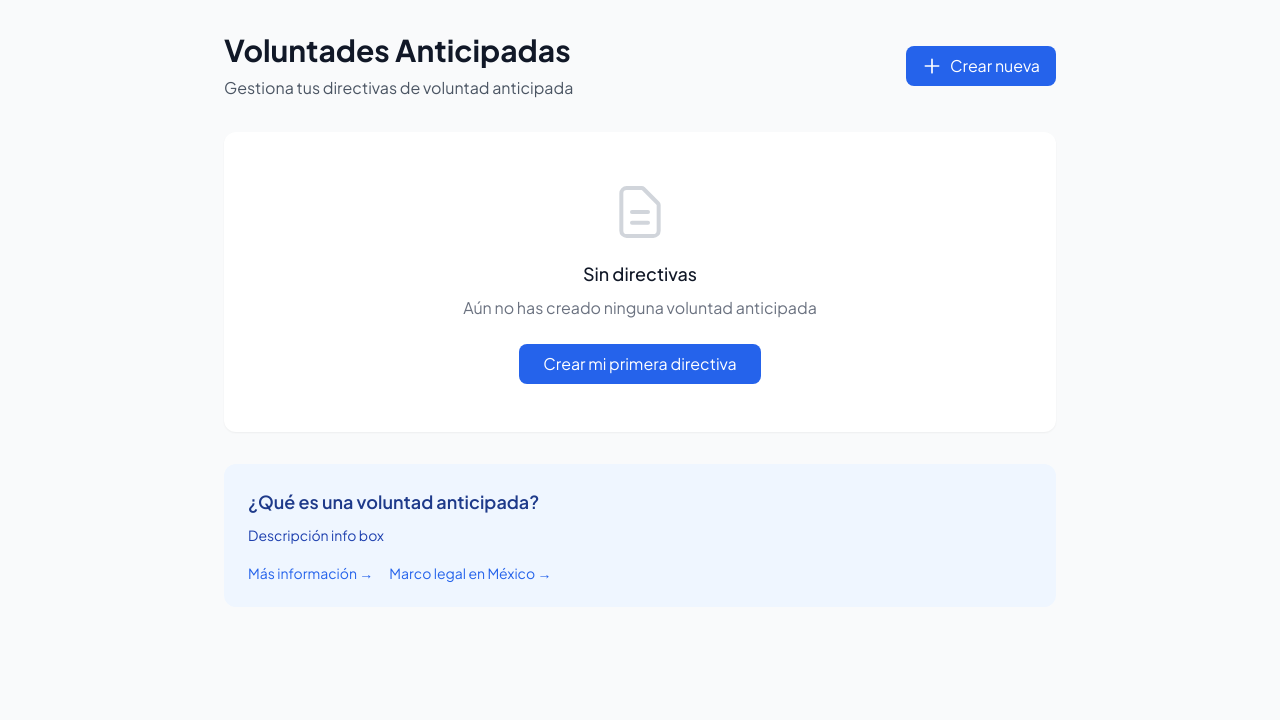
Directives – create modal › shows "Guardando..." on the submit button while saving
The width and height of the screenshot is (1280, 720).
Click the button "Crear nueva": (981, 66) [906,46,1056,86]
(page scrolled)
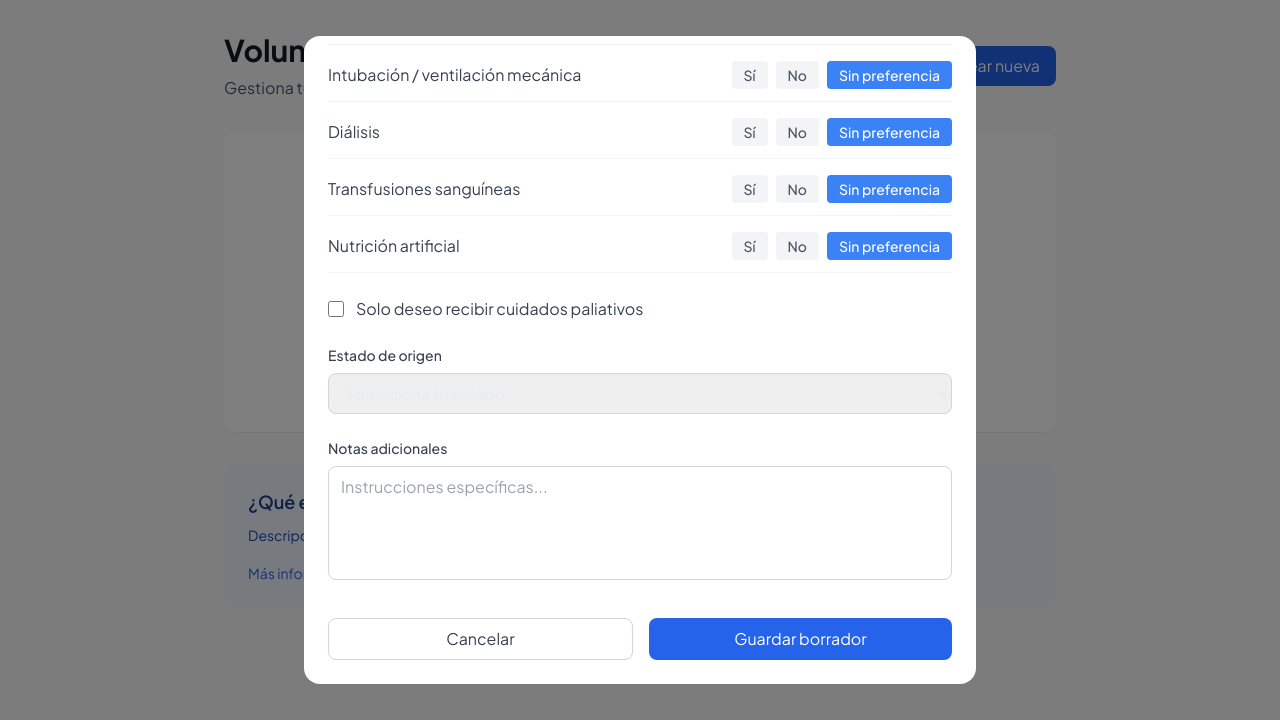
Now the button "Guardar borrador" is shown
Click the button "Guardar borrador": (800, 639) [649,618,952,660]
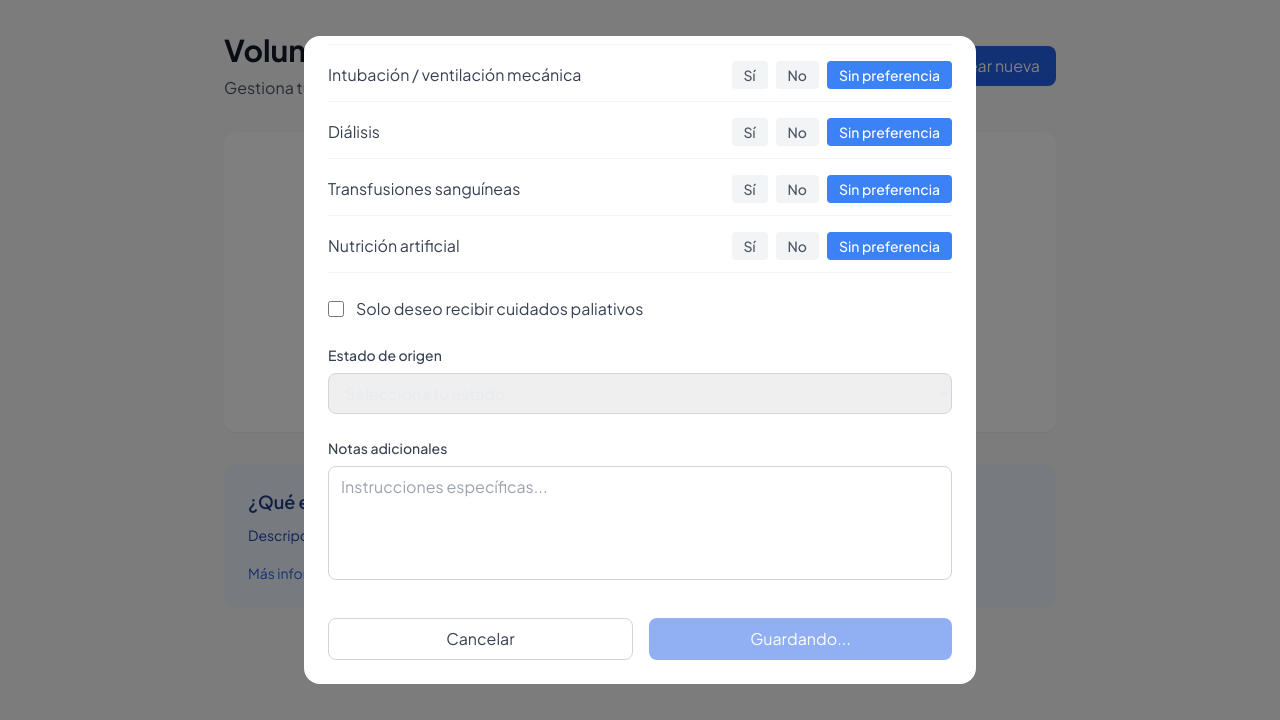
Now the button "Guardando..." is shown, box [649,618,952,660]
